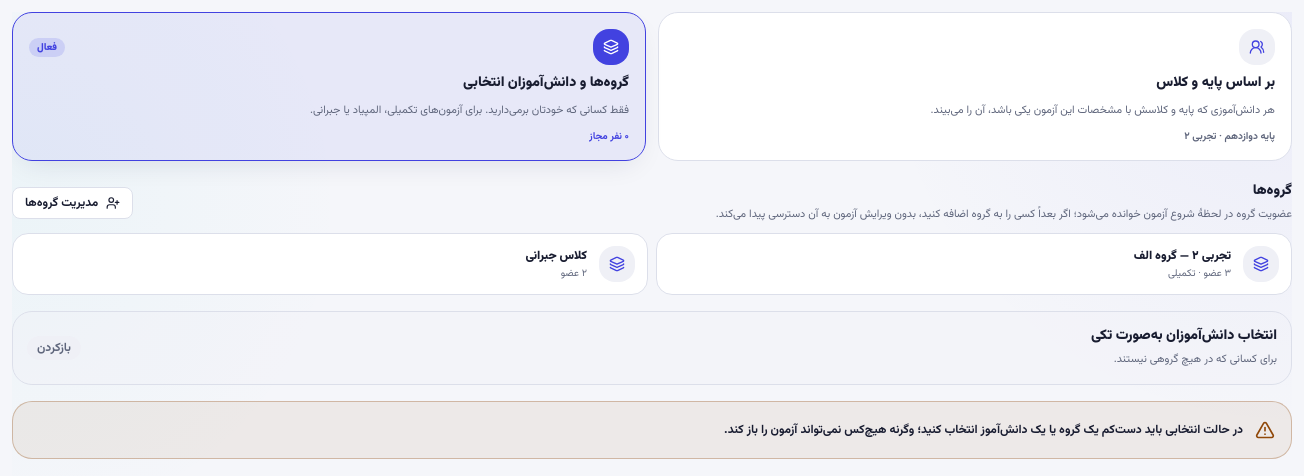
Test: exam audience › counts a student in two chosen groups once
Step 1. Click the checkbox labelled "تجربی ۲ — گروه الف ۳ عضو · تکمیلی" → (1261, 264), box [656,233,1292,295]
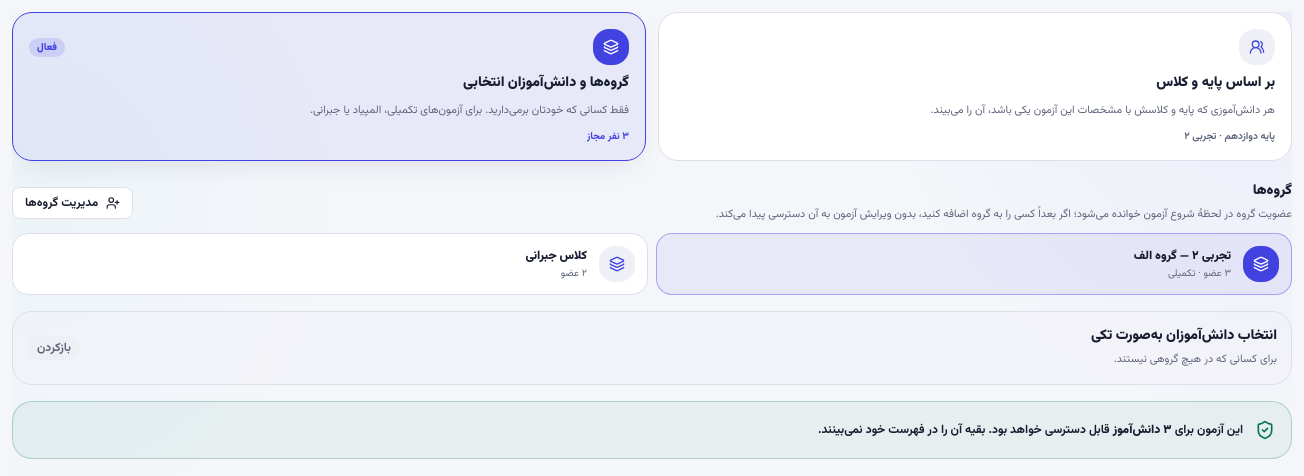
Check: the text "۳ دانش‌آموز" is shown, box [1113,421,1172,439]
Step 2. Click the checkbox labelled "کلاس جبرانی ۲ عضو" → (617, 264), box [12,233,648,295]
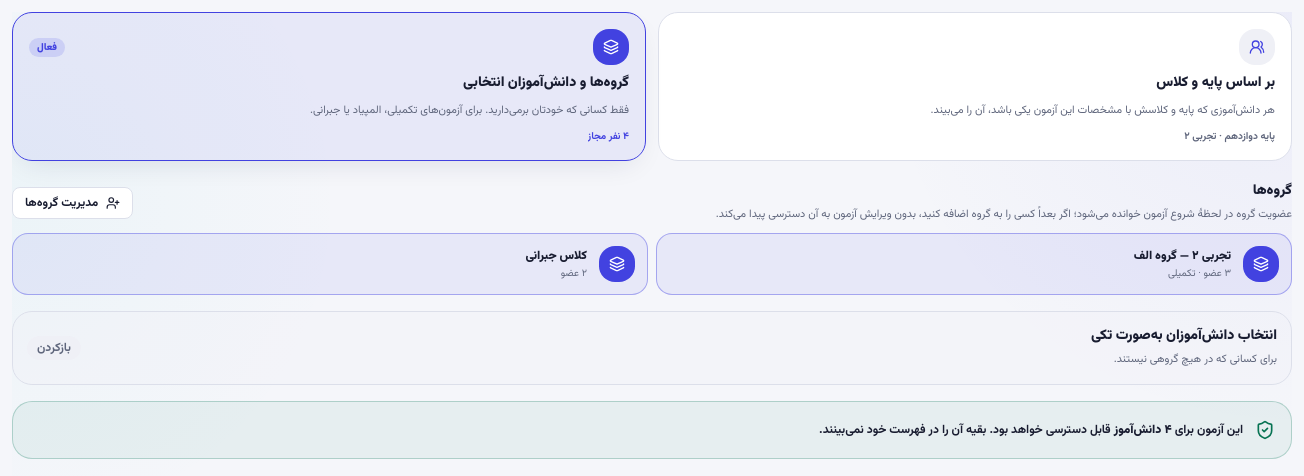
Check: the text "۴ دانش‌آموز" is shown, box [1114,421,1172,439]
